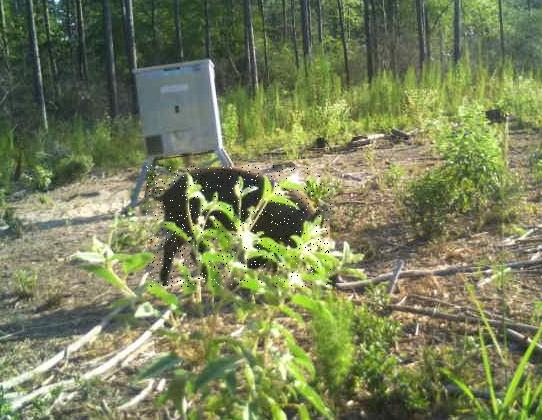Hog: (147, 165, 332, 287)
